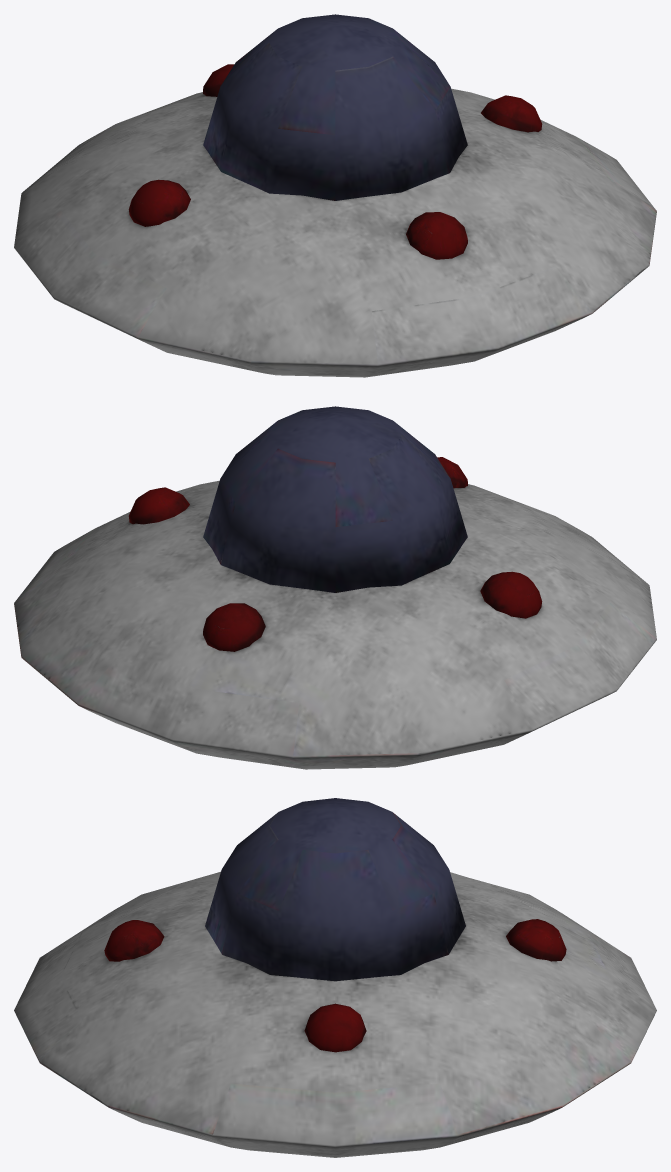
The model's file is UFO.fbx.
3 views of the same model, one above another, from view 1: azimuth 30°, elevation 25°; view 2: azimuth 150°, elevation 25°; view 3: azimuth 270°, elevation 25° (orthographic).
Visible parts, largest first — view 1: Sphere026, Sphere027, Sphere028, Sphere031, Sphere029; view 2: Sphere026, Sphere027, Sphere030, Sphere031, Sphere029; view 3: Sphere026, Sphere027, Sphere029, Sphere030, Sphere028.
Boxes of the visible parts, box(x1,y1,x2,y2) form: Sphere026: box(14, 88, 656, 377); Sphere027: box(203, 14, 467, 200); Sphere028: box(406, 212, 467, 259); Sphere031: box(128, 179, 190, 226); Sphere029: box(481, 95, 542, 132); Sphere026: box(14, 480, 656, 769); Sphere027: box(203, 406, 467, 592); Sphere030: box(203, 603, 265, 651); Sphere031: box(480, 571, 542, 618); Sphere029: box(128, 487, 189, 524); Sphere026: box(14, 871, 656, 1157); Sphere027: box(205, 798, 465, 981); Sphere029: box(304, 1003, 366, 1052); Sphere030: box(506, 919, 566, 961); Sphere028: box(104, 920, 164, 961).
Size of the model in its own units: 153 by 68.62 by 153.
1 material, 1 textured.
